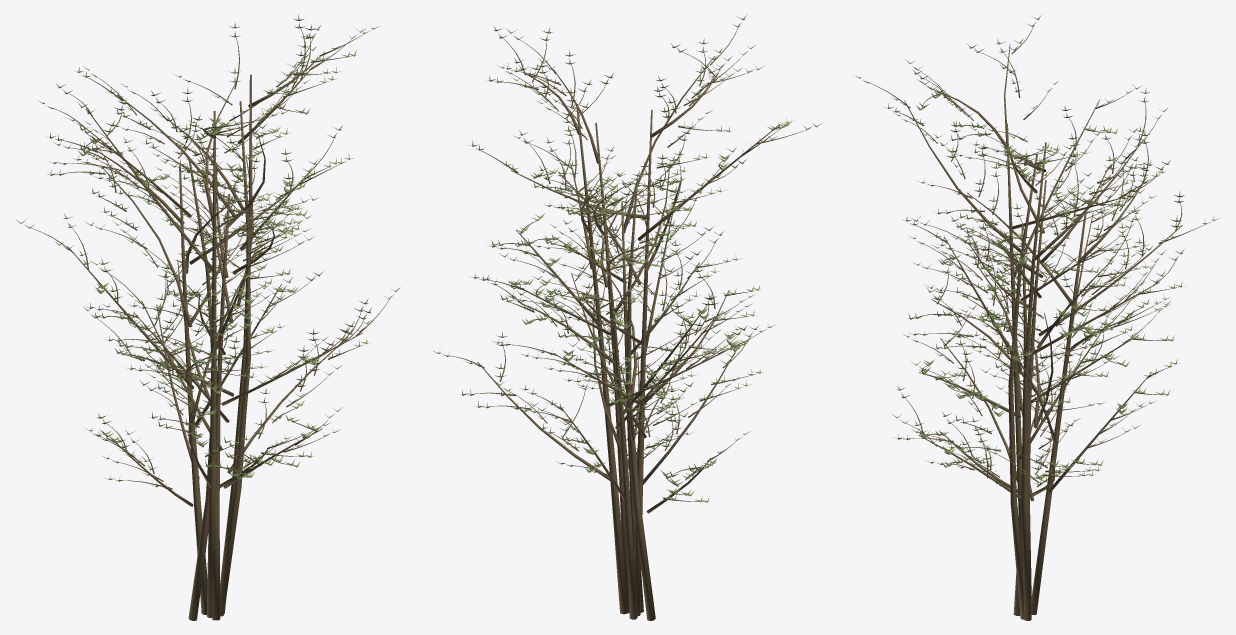
Rendered from Bruyere_1_LOD0.fbx.
3 views of the same model, side by side, from view 1: azimuth 30°, elevation 25°; view 2: azimuth 150°, elevation 25°; view 3: azimuth 270°, elevation 25° (orthographic). The views are drawn at different scales.
Parts seen in each view (by area): view 1: Bruyere_1_LOD0; view 2: Bruyere_1_LOD0; view 3: Bruyere_1_LOD0.
Boxes of the visible parts, left/top/right/bottom form: Bruyere_1_LOD0: left=15, top=14, right=400, bottom=620; Bruyere_1_LOD0: left=433, top=14, right=822, bottom=620; Bruyere_1_LOD0: left=854, top=15, right=1219, bottom=620.
Size of the model in its own units: 221 by 335 by 211.
